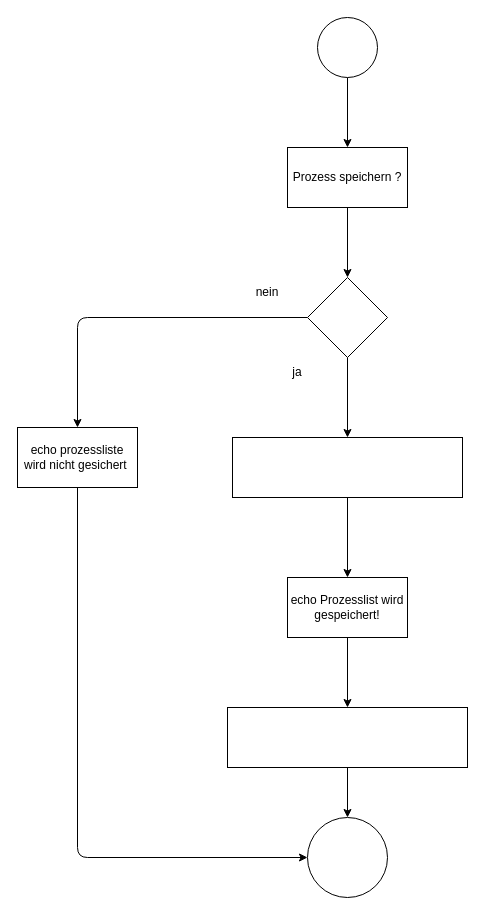
Some shapes in this 485 by 915 pixel diagram are drawn without their labels. The centre of each missing label's shape, as x and y in pixels:
echo prozessliste wurde in datei 11022022/2144.txt gespeichert: (347,737)
touch 11022022/2144.txt ps > "$filename.txt" Oder ausgabe von ps inzu die file: (347,467)
